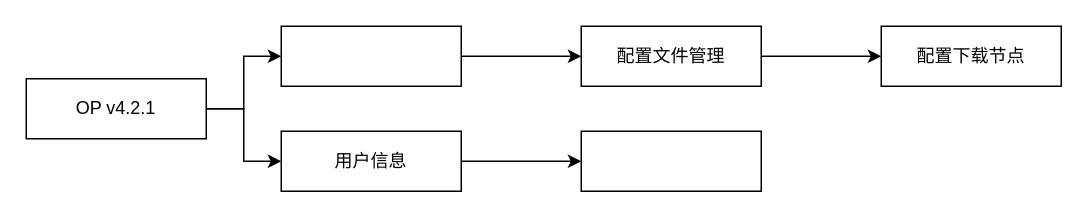
The diagram is 1088 pixels wide and 218 high, and some of its shapes have lost their labels. The box of each missing label's shape, as (x1, y1, x2, y2) in pixels:
固定下载节点: (580, 130, 761, 191)
游戏管理: (280, 25, 461, 86)
